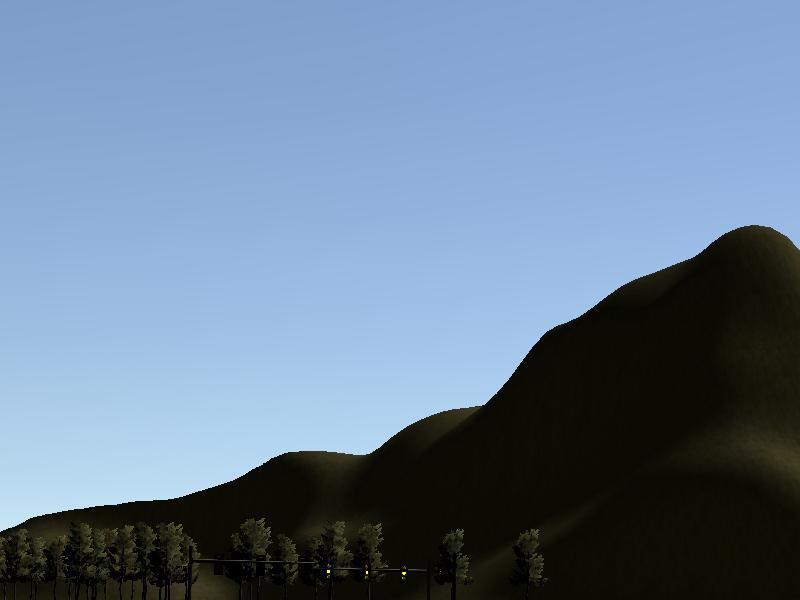Yellow: (362, 561, 372, 583), (399, 563, 408, 583), (325, 560, 333, 581)
